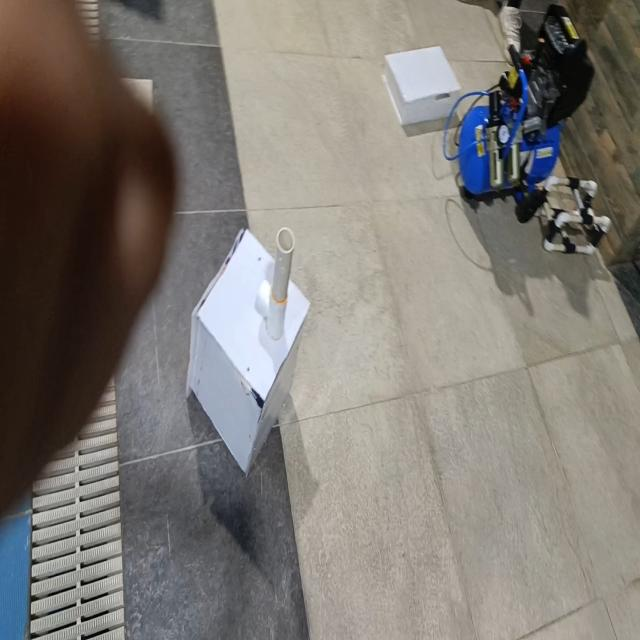Cube: (185, 225, 311, 478)
Cuboid: (383, 43, 461, 126)
